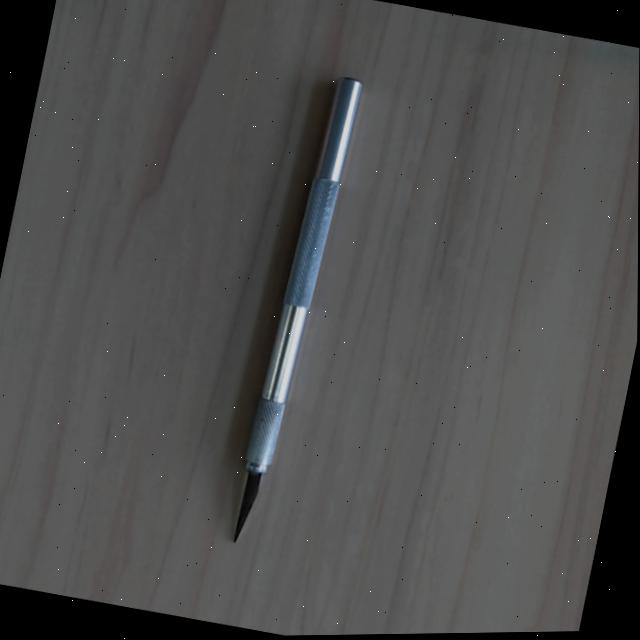Cutter-Kecil: (224, 75, 366, 545)
